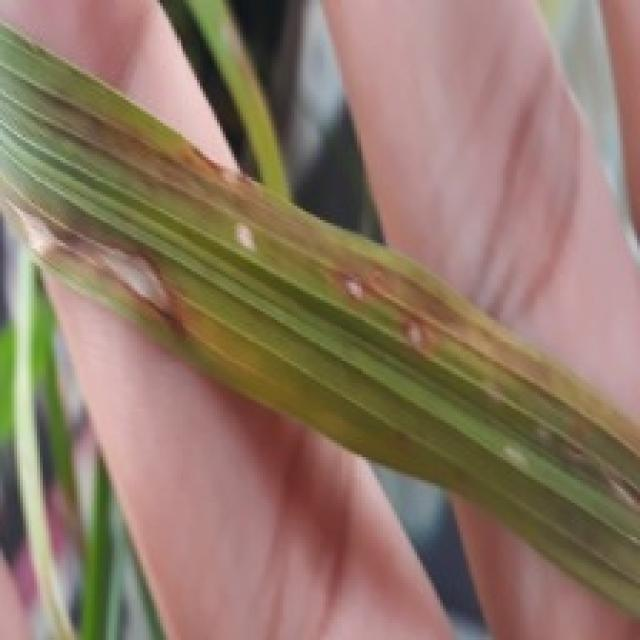Rice___Rice_Blast: (0, 22, 637, 620)
